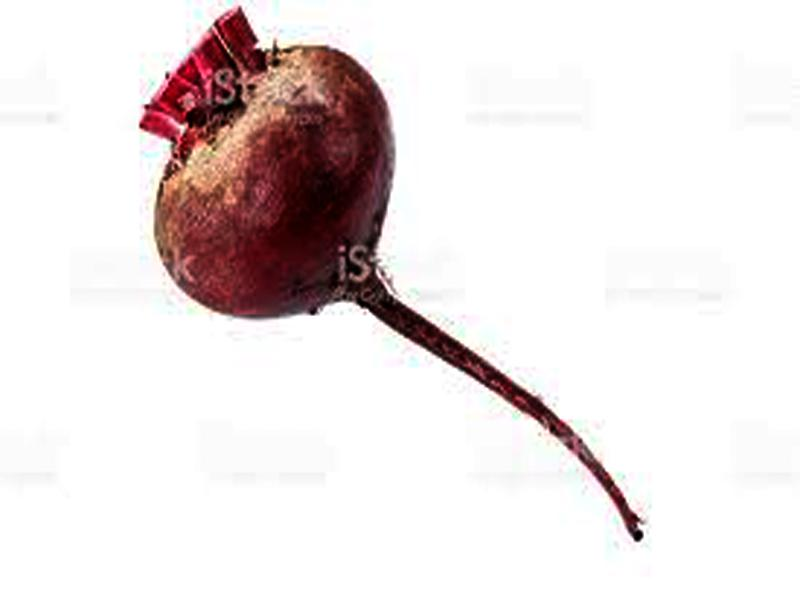Beet: (143, 7, 643, 538)
